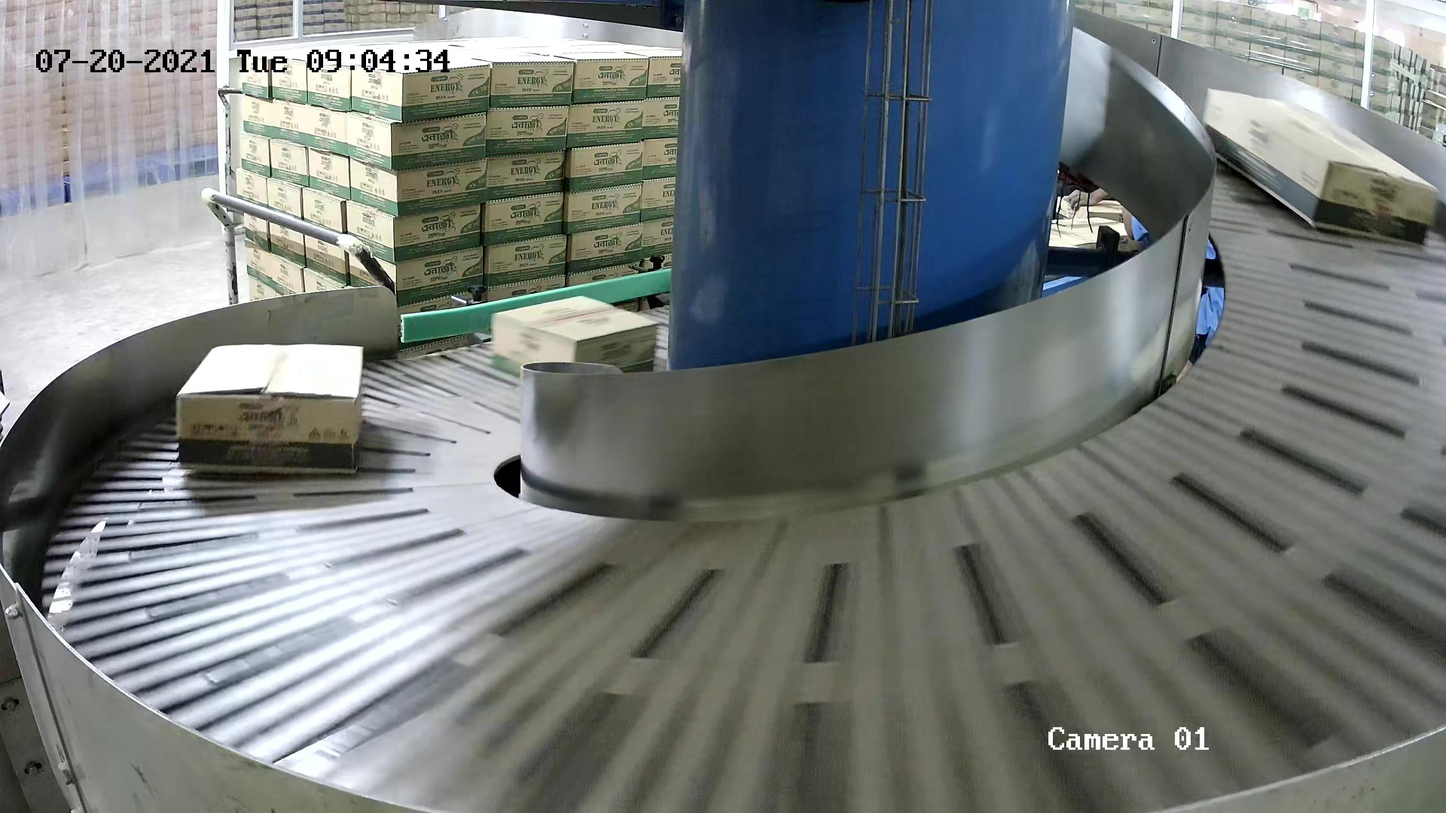Box: (1202, 88, 1440, 248), (175, 343, 364, 475), (489, 294, 660, 380)
